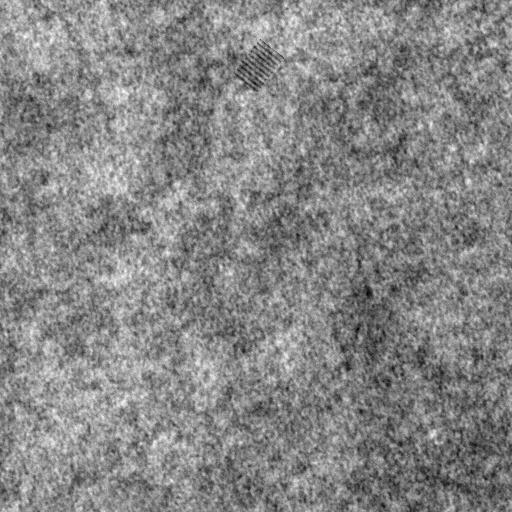impact: (232, 37, 285, 94)
